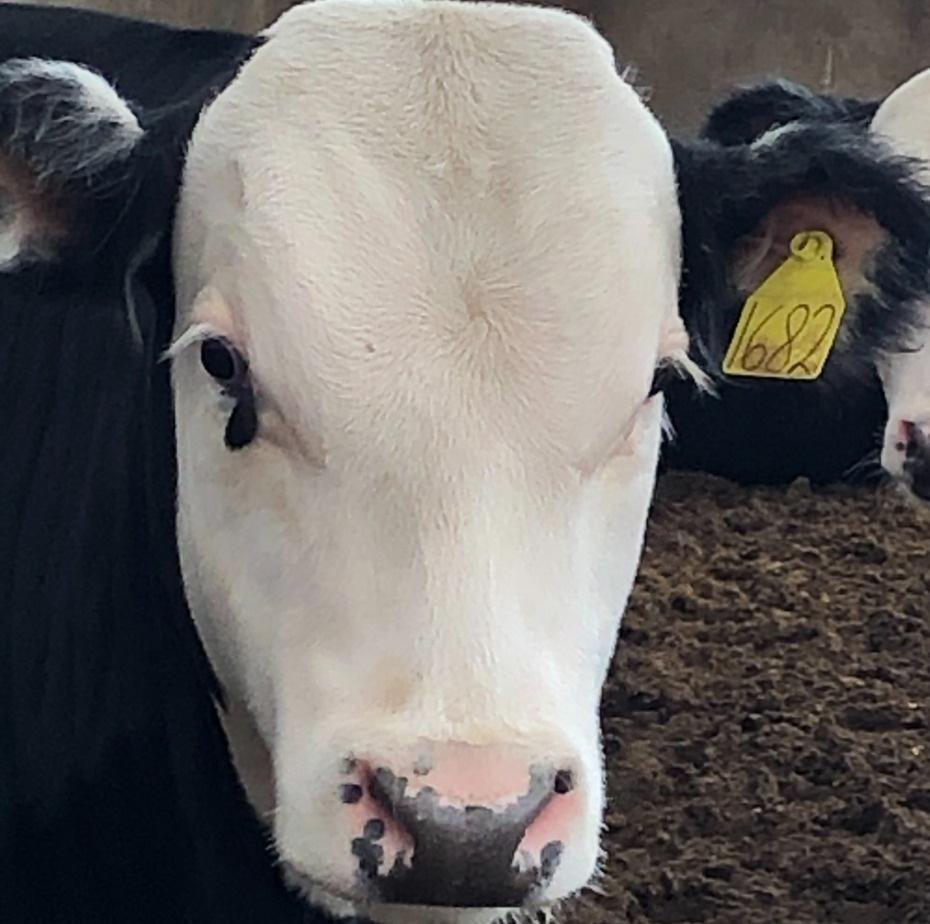muzzles: (264, 708, 615, 918)
